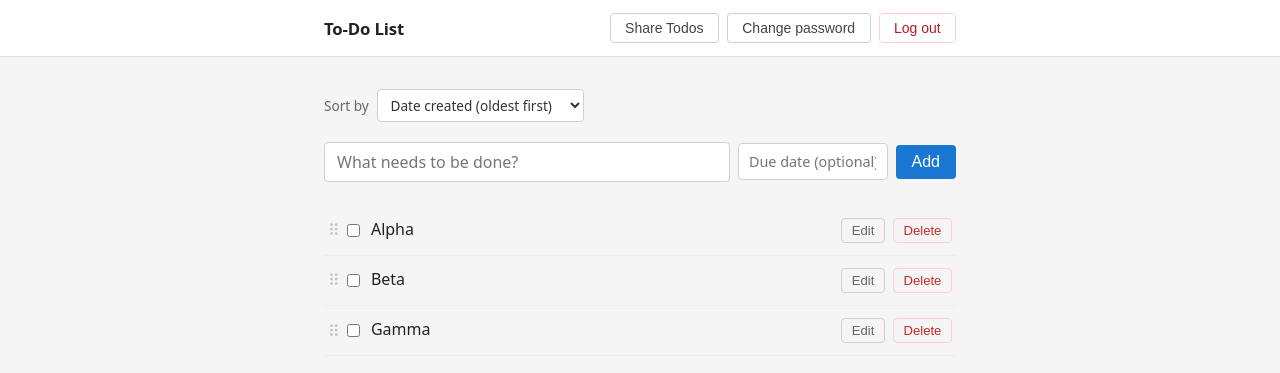
Scenario: Drag and Drop — F-66–F-69 › drag handles are hidden when a todo item is in inline edit mode
expect the text "Alpha" is shown: met, box [371,218,414,240]
Click the button "Edit" in the row of "Beta". click: coordinates (863, 280)
box: [841,268,885,293]
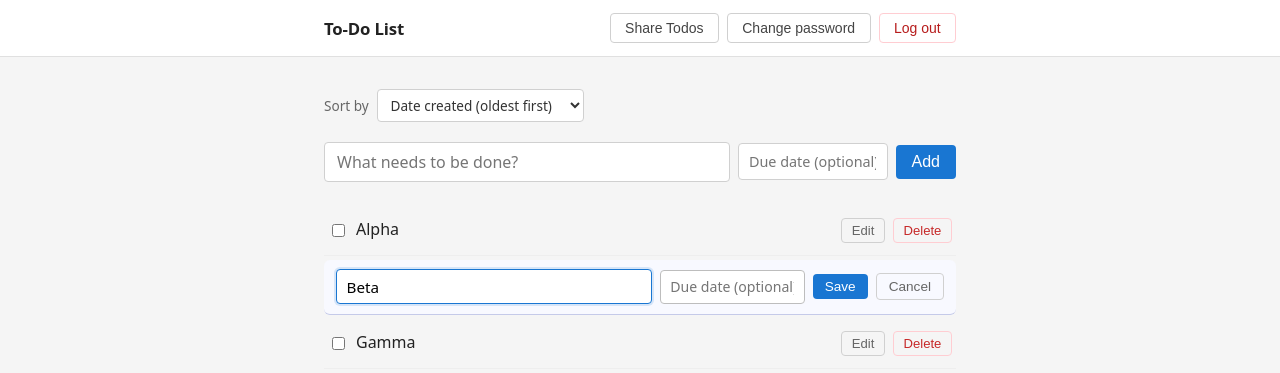
expect no elements with test id "drag-handle" are shown: met
